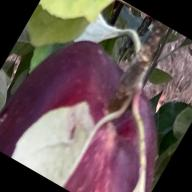Apples: (0, 18, 192, 192)
